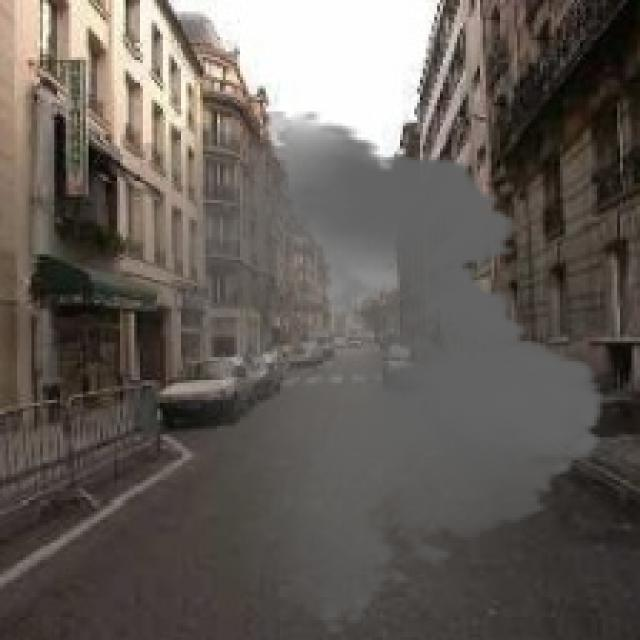Smoke: (74, 112, 623, 638)
